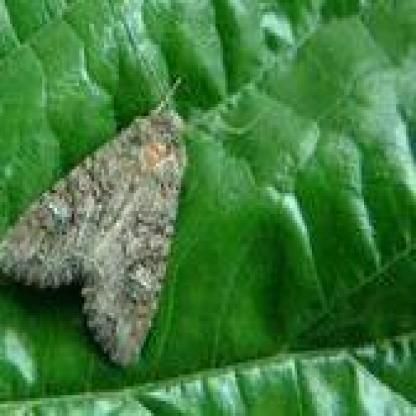armyworm: (2, 63, 211, 386)
